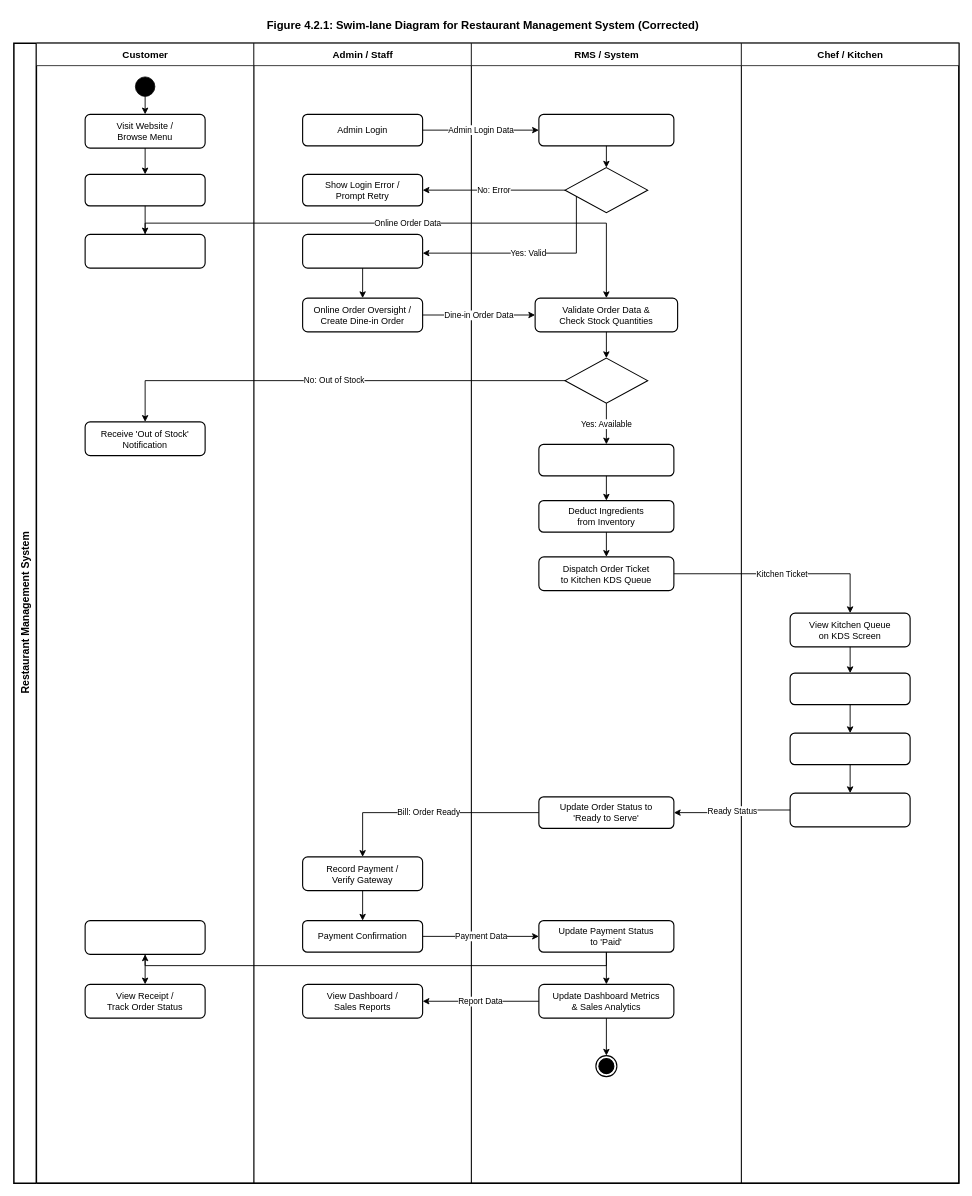
Some shapes in this 972 by 1196 pixel diagram are drawn without their labels. The centre of each missing label's shape, as x and y in pixels:
"Accept Order (Status: 'Preparing')" goes at (x=849, y=688).
"Authenticate User & Verify Role" goes at (x=606, y=129).
"Create Order Record in Database" goes at (x=606, y=459).
"Login / Register" goes at (x=144, y=189).
"Manage Menu / Tables" goes at (x=362, y=250).
"Mark Order Ready" goes at (x=849, y=809).
"Place Online Order / Checkout" goes at (x=144, y=250).
"Prepare Food" goes at (x=849, y=748).
"Receive Order Confirmation" goes at (x=144, y=937).
"Stock Available?" goes at (x=606, y=380).
"Valid User?" goes at (x=606, y=190).
